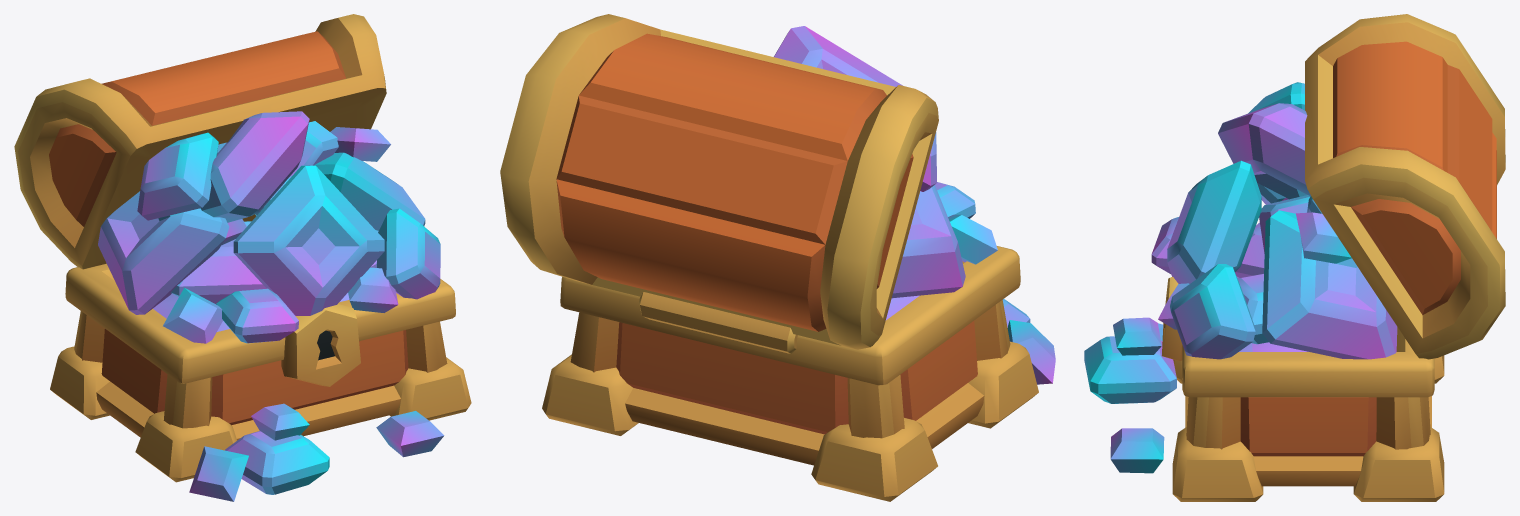
File: gems-chest.glb
3 views of the same model, side by side, from view 1: azimuth 30°, elevation 25°; view 2: azimuth 150°, elevation 25°; view 3: azimuth 270°, elevation 25° (orthographic). The views are drawn at different scales.
Visible parts, largest first — view 1: Gems_Chest; view 2: Gems_Chest; view 3: Gems_Chest.
Boxes of the visible parts, <box> form: Gems_Chest: <box>14,14,471,501</box>; Gems_Chest: <box>500,14,1055,501</box>; Gems_Chest: <box>1084,14,1505,501</box>.
Size of the model in its own units: 1.55 by 1.52 by 1.68.
Materials: 1 (1 with a texture image).
